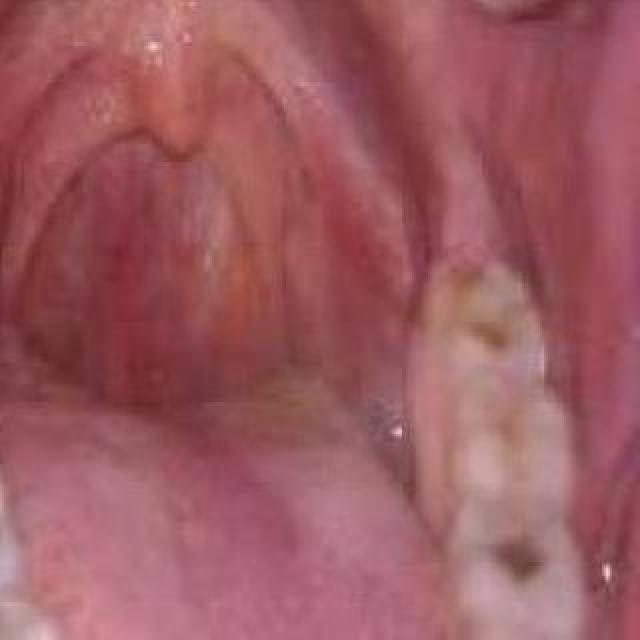cavities: (450, 303, 526, 379), (484, 520, 550, 582)
